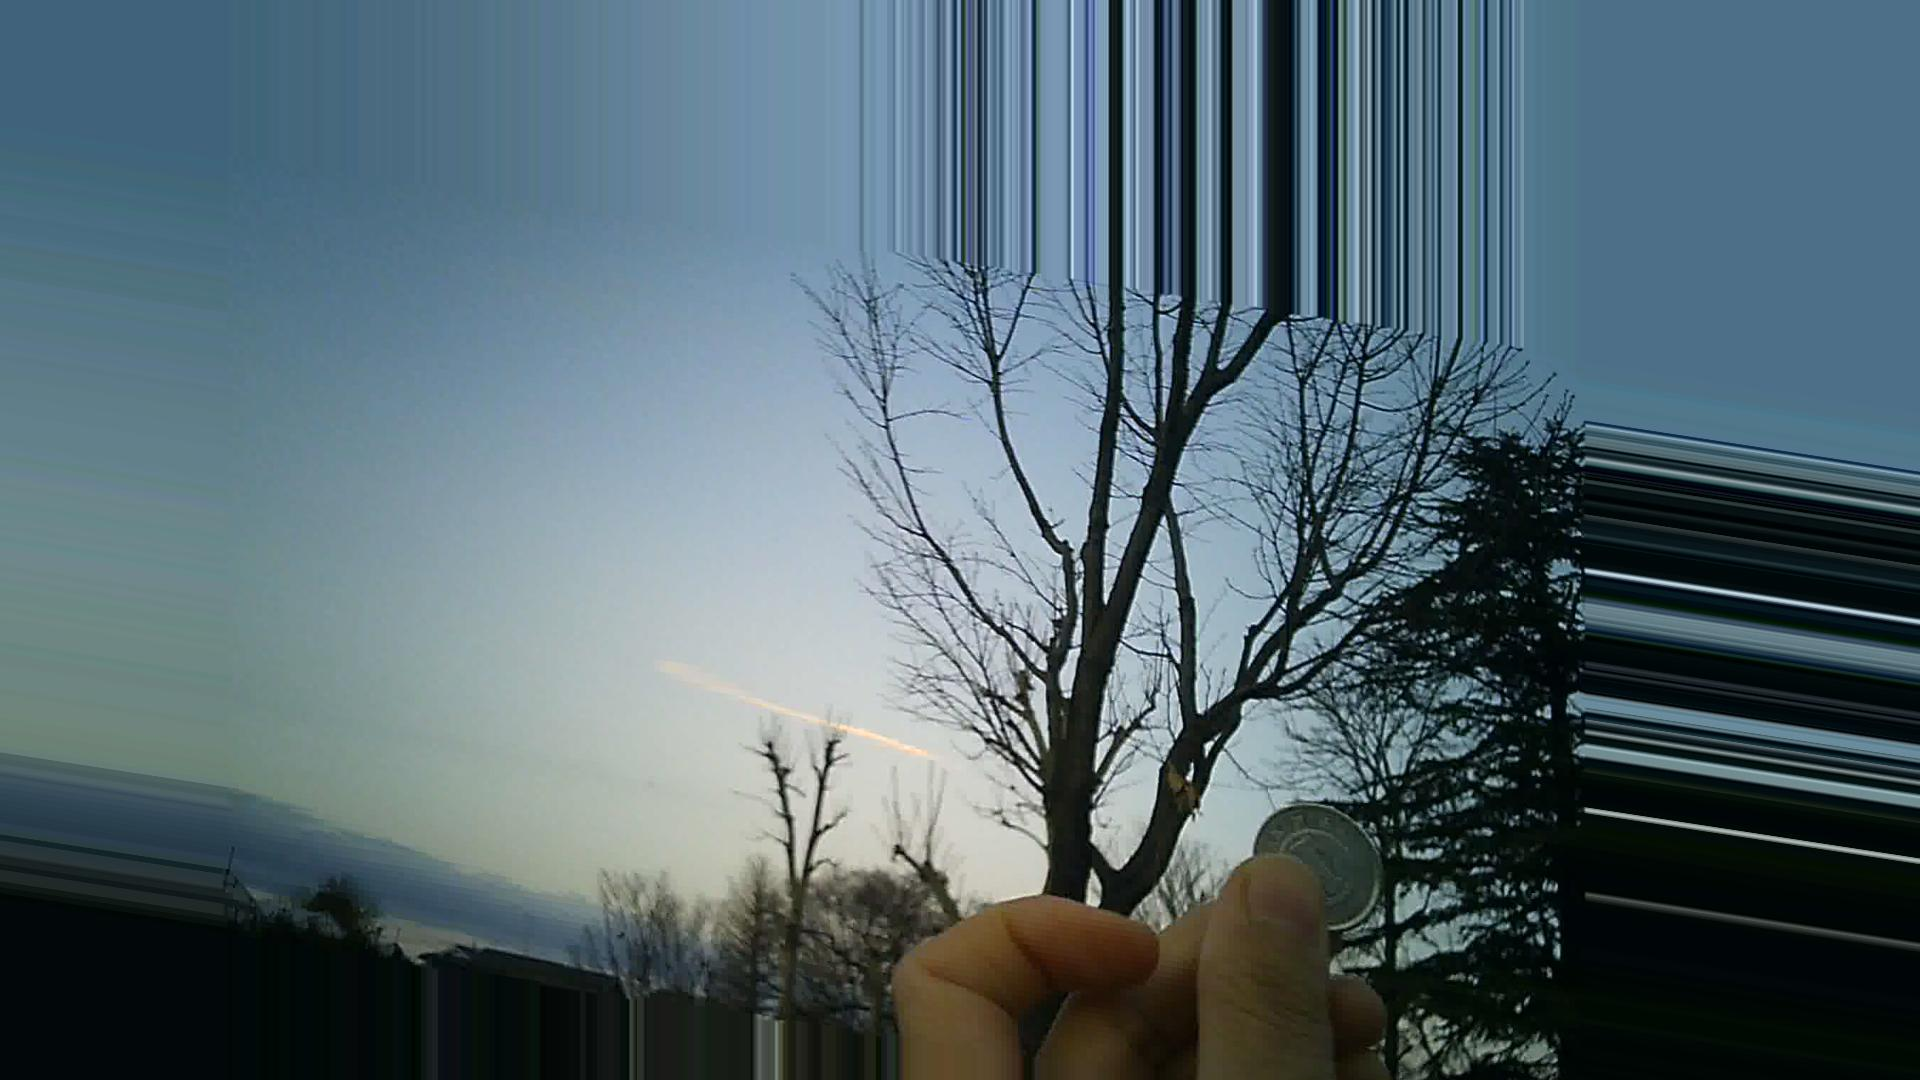1 Yen: (1242, 793, 1387, 924)
